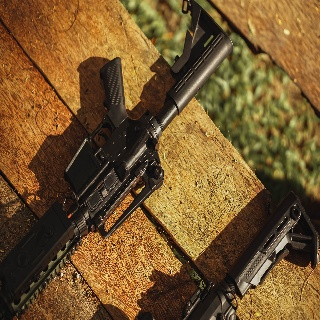rifle: (1, 1, 233, 320), (184, 190, 320, 320)
